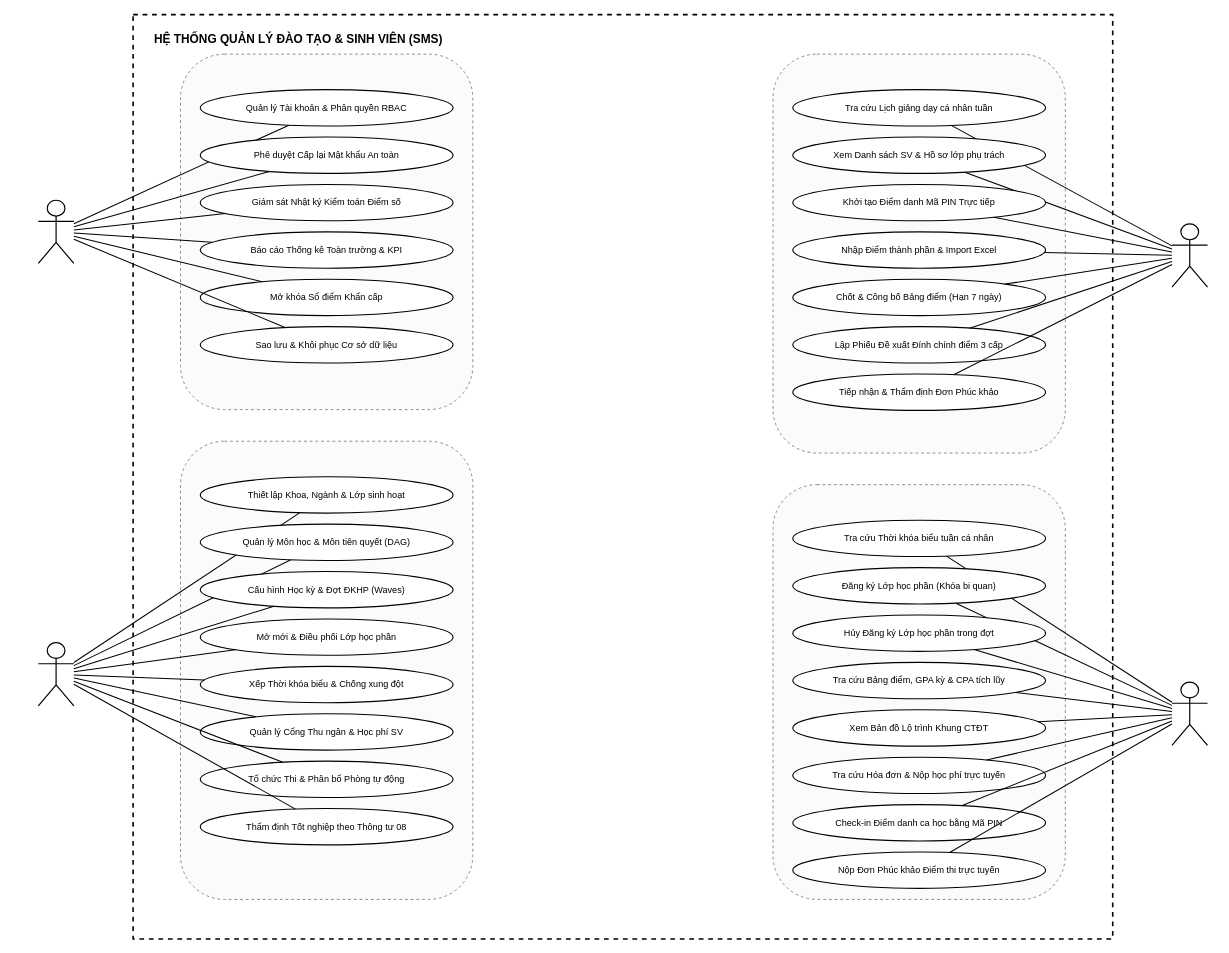
This 1229x953 diagram has some shape labels left out. The box of each missing label's shape, as (x1, y1, x2, y2) in pixels:
Cán bộ Phòng Đào tạo: (37, 642, 74, 706)
Giảng viên (Lecturer): (1171, 223, 1208, 287)
PHÂN HỆ CÁN BỘ PHÒNG ĐÀO TẠO: (180, 440, 473, 899)
PHÂN HỆ GIẢNG VIÊN (LECTURER): (772, 53, 1065, 453)
PHÂN HỆ QUẢN TRỊ VIÊN HỆ THỐNG (ADMIN): (180, 53, 473, 410)
PHÂN HỆ SINH VIÊN (STUDENT): (772, 484, 1065, 899)
Quản trị viên hệ thống (Admin): (37, 199, 74, 264)
Sinh viên (Student): (1171, 681, 1208, 746)
